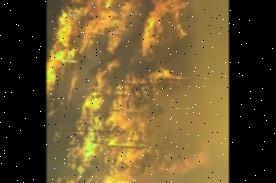fire: (46, 0, 212, 183)
